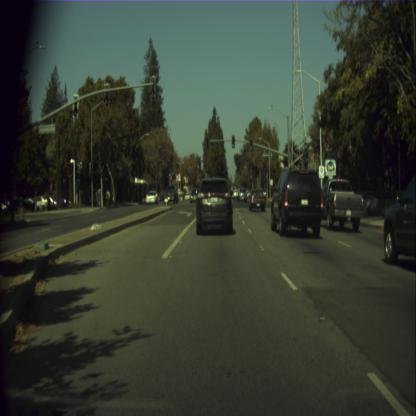Green: (232, 134, 235, 148), (249, 140, 252, 150), (306, 151, 308, 162)
off: (206, 138, 209, 148)
